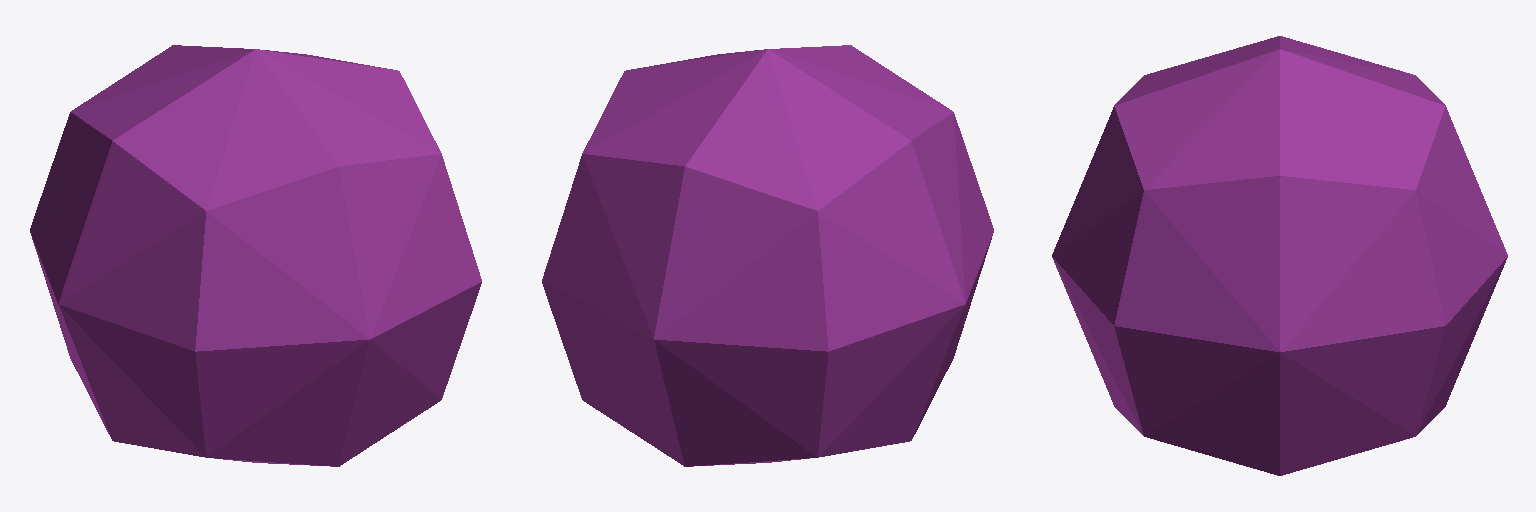
3 views of the same model, side by side, from view 1: azimuth 30°, elevation 25°; view 2: azimuth 150°, elevation 25°; view 3: azimuth 270°, elevation 25° (orthographic).
Visible parts, largest first — view 1: Cube; view 2: Cube; view 3: Cube.
Boxes of the visible parts, box(x1,y1,x2,y2) form: Cube: box(30, 45, 481, 466); Cube: box(542, 45, 993, 466); Cube: box(1052, 36, 1507, 475).
Size of the model in its own units: 1.68 by 1.68 by 1.68.
Materials: 1 (1 with a texture image).